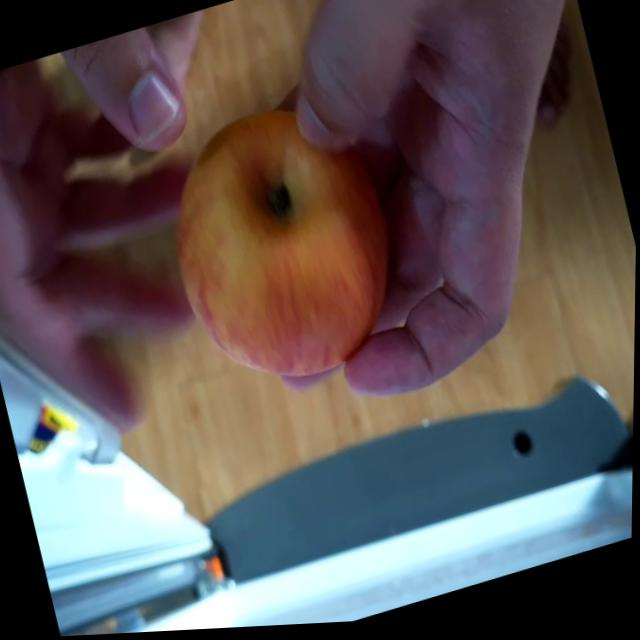apple: (146, 89, 419, 412)
